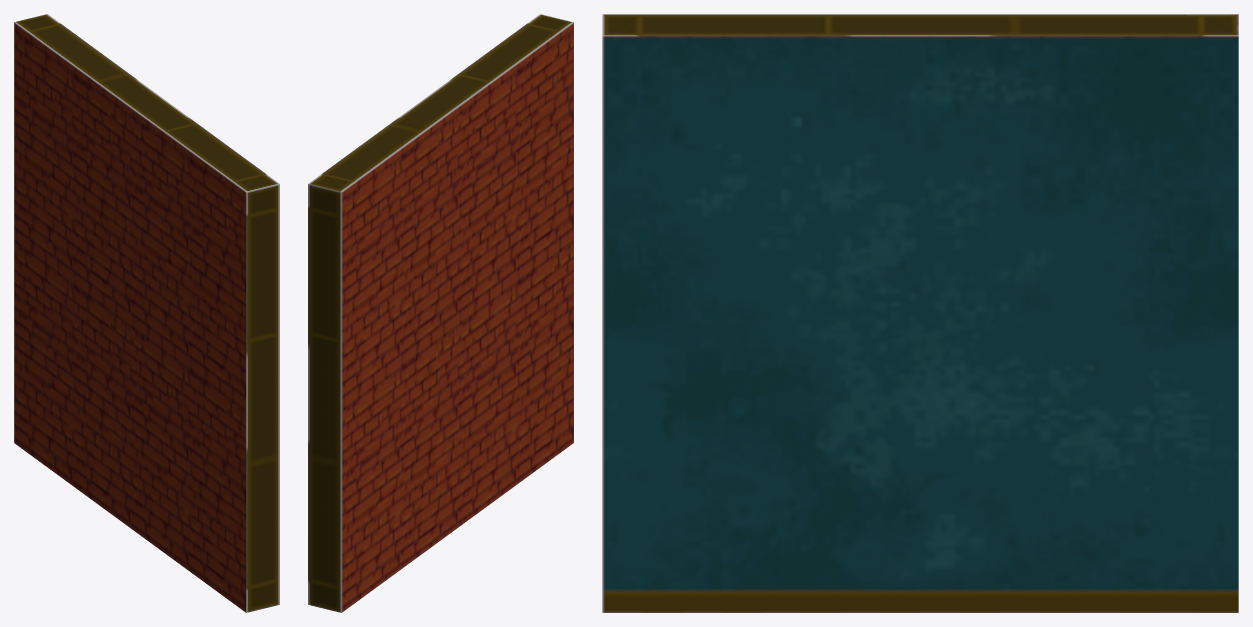
The model's file is Wall_01.fbx.
3 views of the same model, side by side, from view 1: azimuth 30°, elevation 25°; view 2: azimuth 150°, elevation 25°; view 3: azimuth 270°, elevation 25° (orthographic). The views are drawn at different scales.
Parts seen in each view (by area): view 1: Wall_01; view 2: Wall_01; view 3: Wall_01.
Part boxes in pixels (<box>): Wall_01: <box>14,14,279,612</box>; Wall_01: <box>308,14,573,612</box>; Wall_01: <box>602,14,1238,612</box>.
Bounding box in the file's own units: 50 × 600 × 600.
